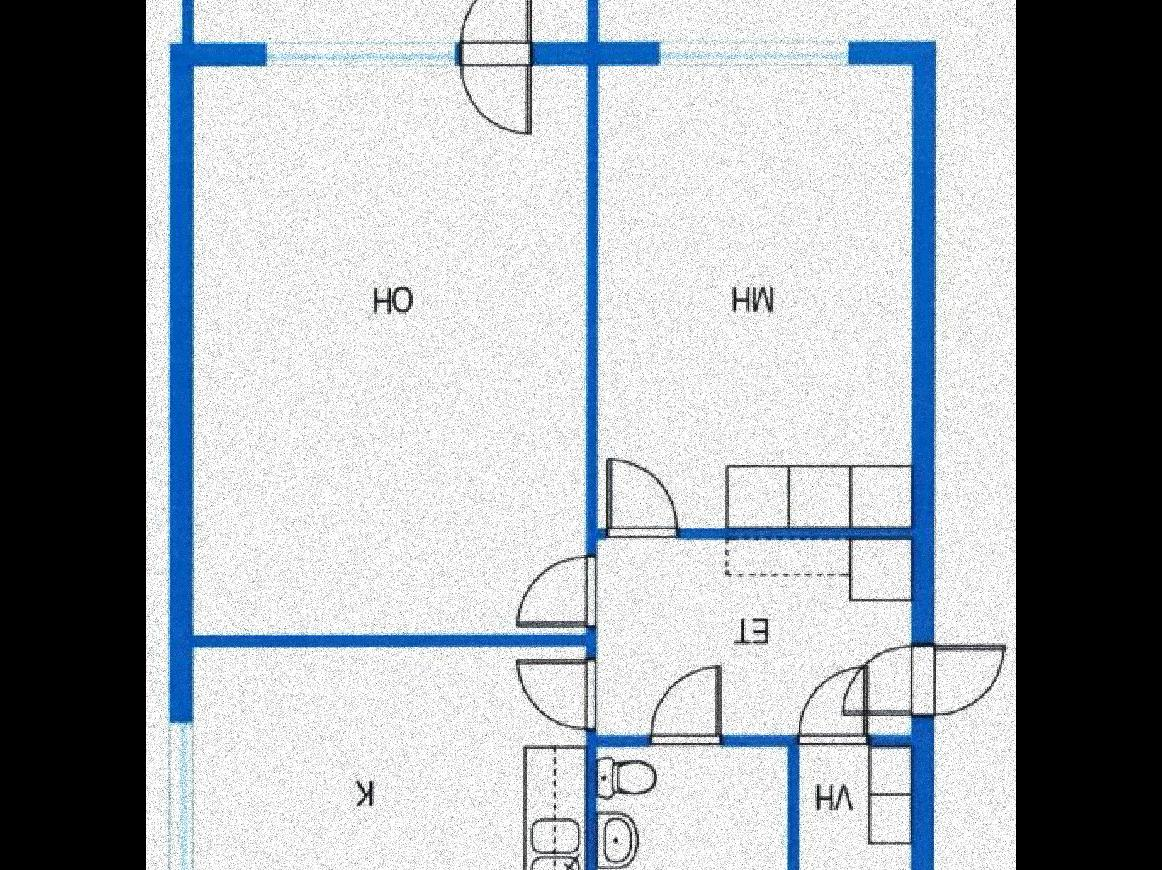door: (841, 637, 1014, 718), (650, 652, 733, 745), (513, 548, 603, 633), (458, 55, 536, 142), (797, 662, 869, 752), (609, 454, 681, 542), (518, 660, 596, 723), (458, 0, 539, 57)
window: (656, 36, 848, 71), (169, 722, 196, 870), (270, 45, 459, 65)
zone: (192, 63, 584, 632), (595, 61, 911, 525), (186, 648, 587, 870), (591, 541, 911, 736), (594, 745, 791, 870), (196, 0, 593, 47), (794, 748, 910, 870)
